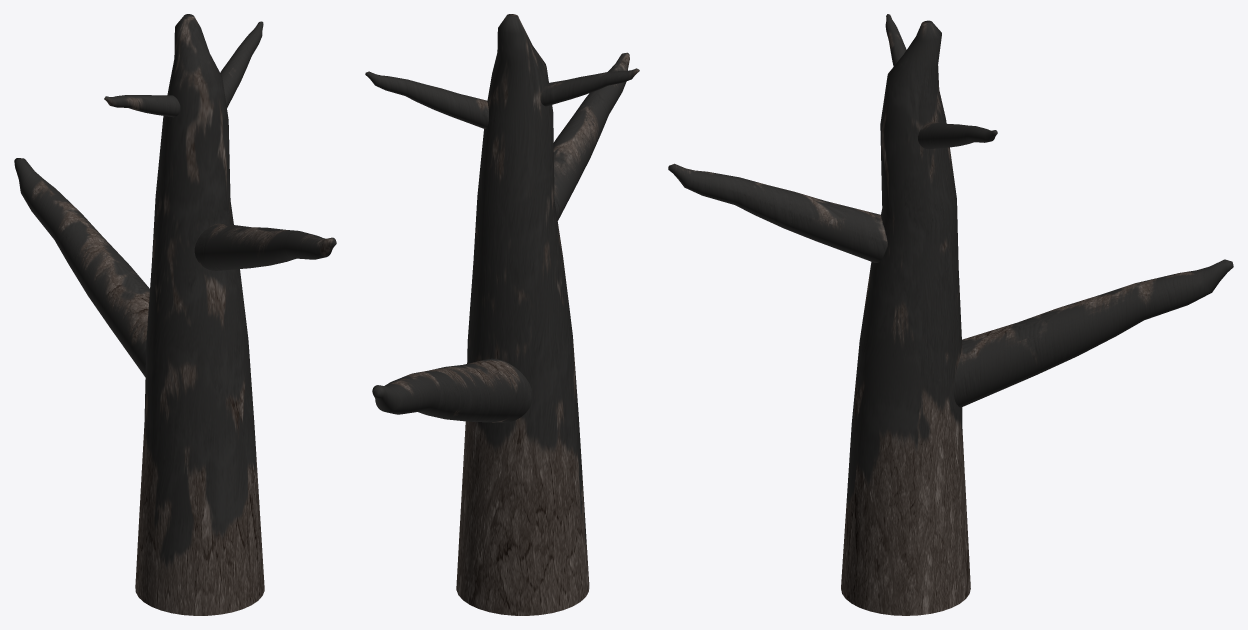
File: TreeBurned.fbx
3 renders of one model, left to right at view 1: azimuth 30°, elevation 25°; view 2: azimuth 150°, elevation 25°; view 3: azimuth 270°, elevation 25°, orthographic. The views are drawn at different scales.
Parts seen in each view (by area): view 1: Tree; view 2: Tree; view 3: Tree.
Boxes of the visible parts, x1,y1,x2,y2 form: Tree: (14, 14, 336, 615); Tree: (365, 14, 639, 615); Tree: (668, 14, 1233, 615).
Size of the model in its own units: 378 by 961 by 870.
